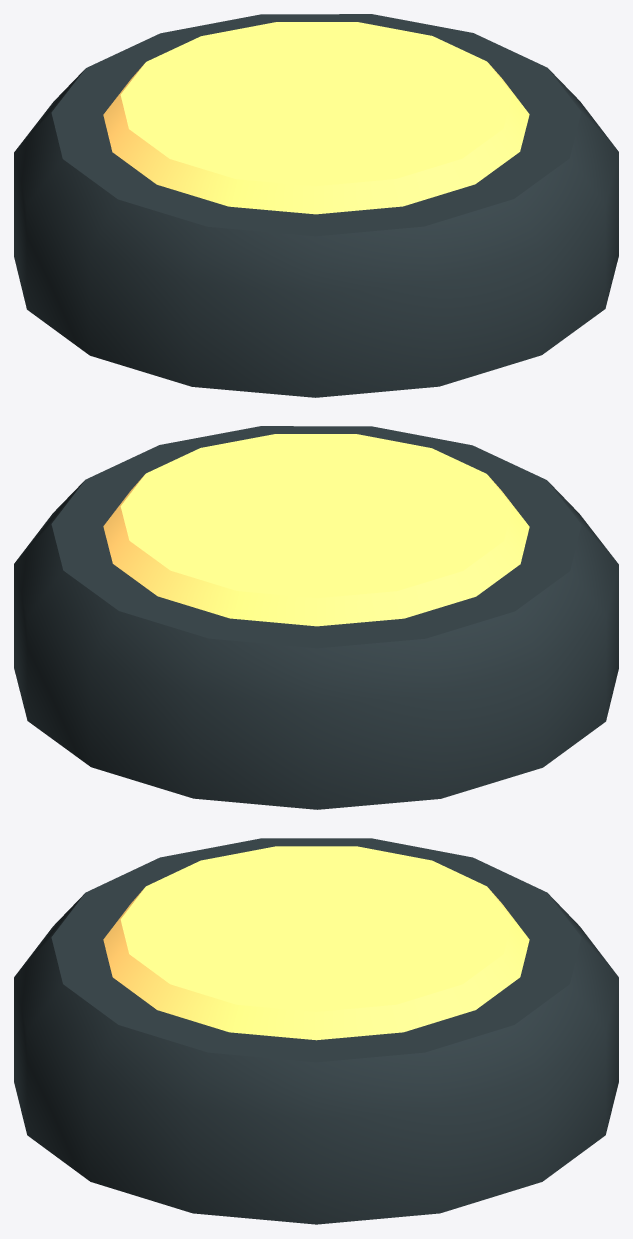
The model's file is kit_licence_puck_v1.glb.
The picture shows the model from 3 angles, top to bottom: view 1: azimuth 30°, elevation 25°; view 2: azimuth 150°, elevation 25°; view 3: azimuth 270°, elevation 25°; orthographic projection.
Visible parts, largest first — view 1: body, status_led; view 2: body, status_led; view 3: body, status_led.
Part boxes in pixels (box(x1,y1,x2,y2)): body: box(14, 14, 618, 397); status_led: box(103, 22, 529, 214); body: box(14, 426, 618, 809); status_led: box(103, 434, 529, 626); body: box(14, 838, 618, 1224); status_led: box(103, 846, 529, 1040).
Size of the model in its own units: 0.105 by 0.032 by 0.105.
